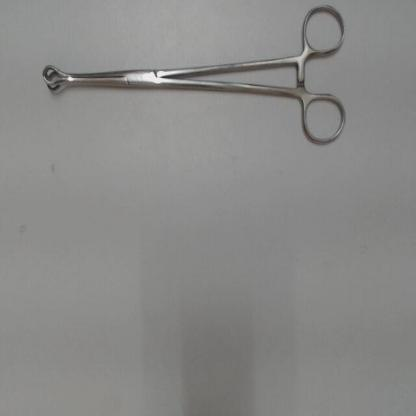8 Babcock Tissue Forceps: (38, 1, 355, 152)
